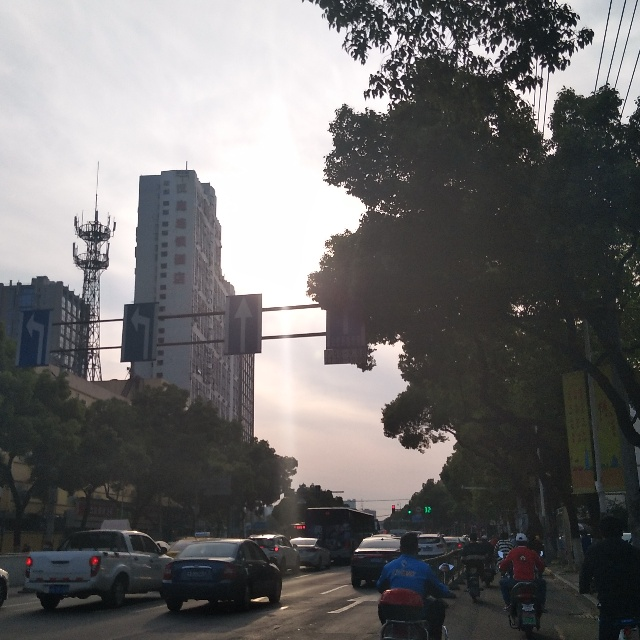left: (123, 300, 156, 362), (24, 308, 51, 368)
straight: (223, 291, 263, 357)
